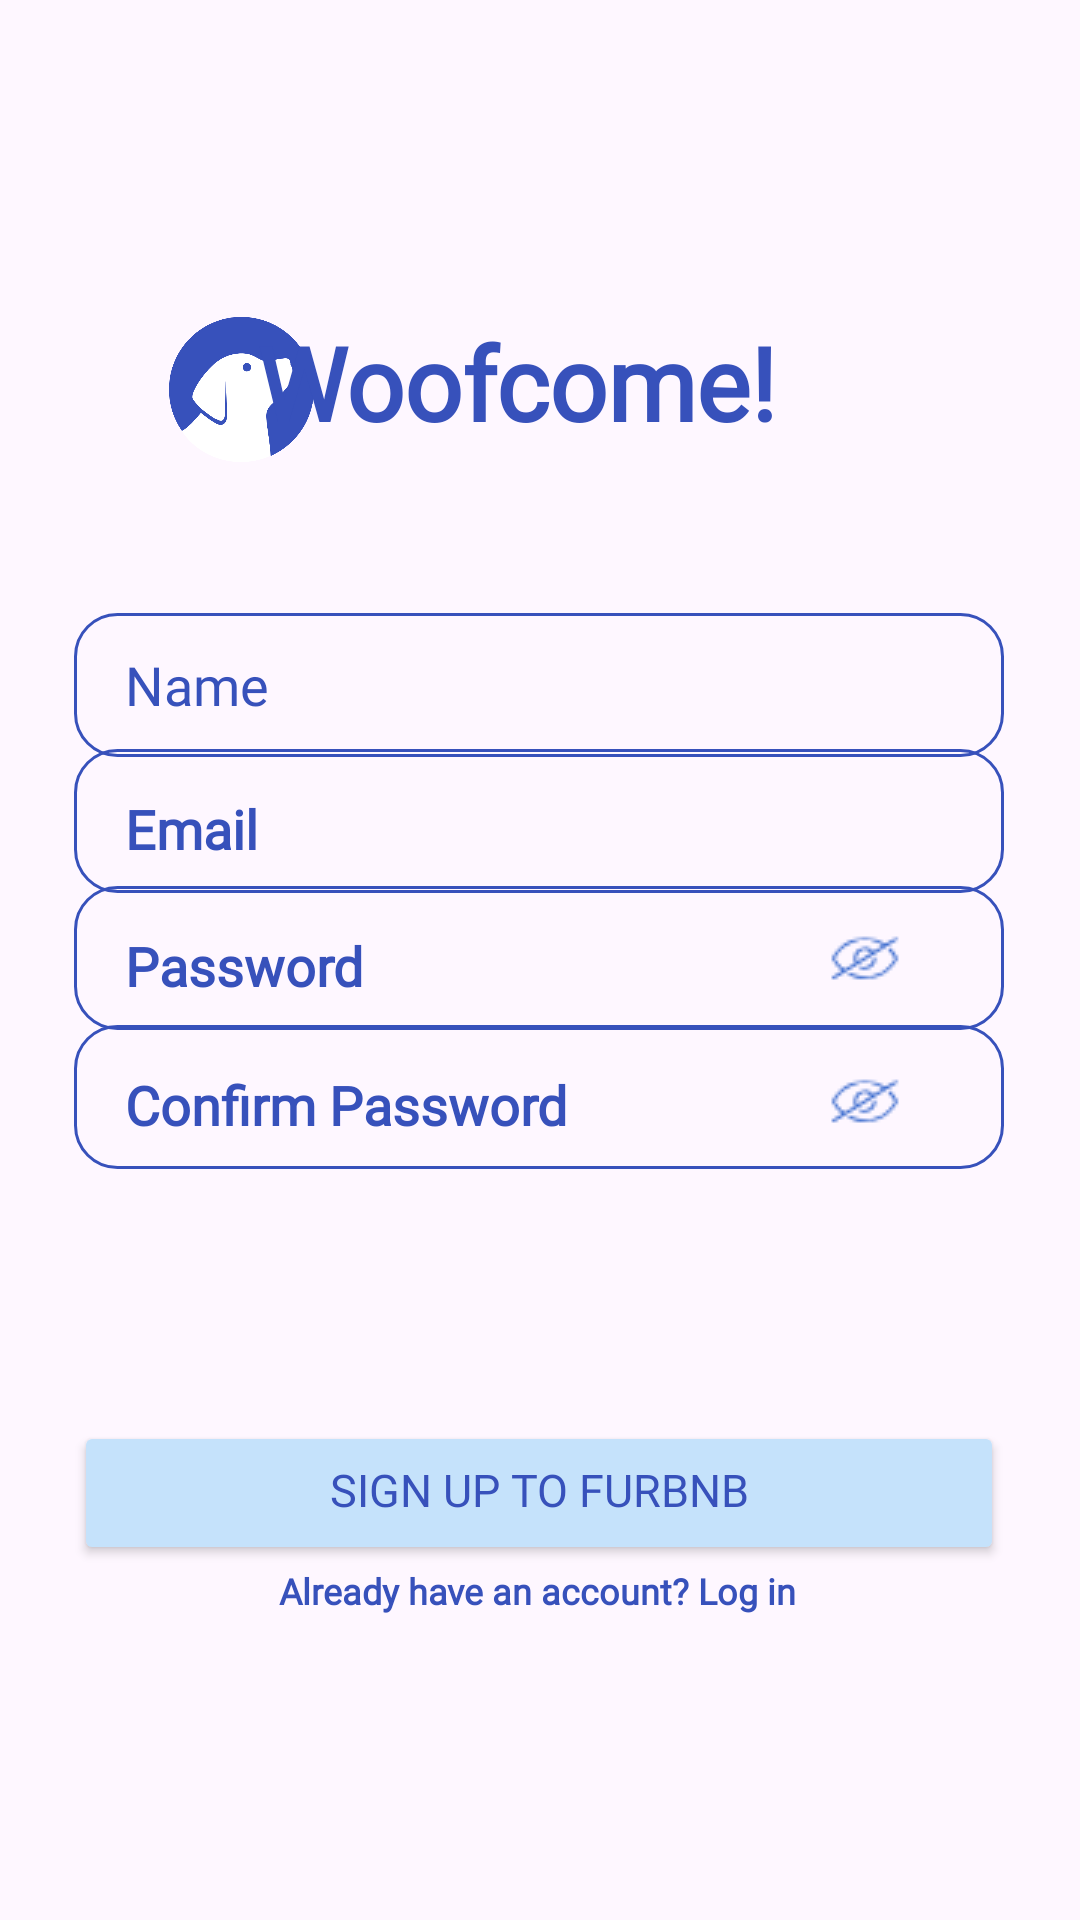

Locate icon controls on the screen. Image size 1080 x 1920, boxes as [x1=x1, y1=y1, x2=x2, y2=y2].
non visible pw: [x1=831, y1=936, x2=899, y2=980], [x1=831, y1=1079, x2=899, y2=1123]
